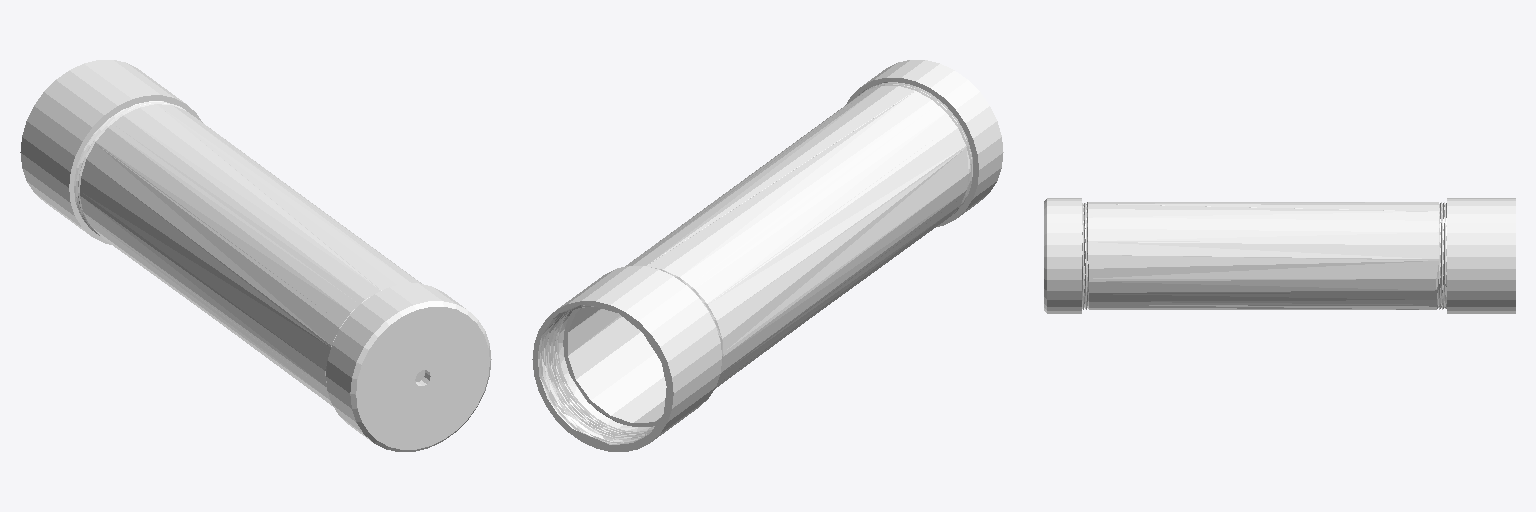
robot.urdf — main:
<?xml version="1.0" ?>
<robot name="main">
  <link name="world"/>
  <joint name="base_adapter_joint" type="fixed">
    <parent link="world"/>
    <child link="iiwa_base_adapter"/>
    <origin rpy="0 0 0" xyz="-0.2 0 0"/>
  </joint>
  <link name="iiwa_base_adapter">
    <inertial>
      <origin rpy="0 0 0" xyz="0 0 0"/>
      <mass value="1"/>
      <inertia ixx="1" ixy="0" ixz="0" iyy="1" iyz="0" izz="1"/>
    </inertial>
    <visual>
      <origin rpy="0 0 0" xyz="0 0 0"/>
      <geometry>
        <mesh filename="package://safemotions/description/meshes/misc/visual/base_adapter.dae"/>
      </geometry>
      <material name="white">
        <color rgba="1 1 1 1"/>
      </material>
    </visual>
    <collision>
      <origin rpy="0 0 0" xyz="0 0 0.01"/>
      <geometry>
        <cylinder length="0.02" radius="0.16"/>
      </geometry>
    </collision>
  </link>
  <joint name="iiwa_base_adapter_iiwa_joint" type="fixed">
    <origin rpy="0 0 0" xyz="0 0 0.02"/>
    <parent link="iiwa_base_adapter"/>
    <child link="iiwa_link_0"/>
  </joint>
  <link name="iiwa_link_0">
    <inertial>
      <origin rpy="0 0 0" xyz="-0.01 0 0.07"/>
      <mass value="5"/>
      <inertia ixx="0.05" ixy="0" ixz="0" iyy="0.06" iyz="0" izz="0.03"/>
    </inertial>
    <visual>
      <geometry>
        <mesh filename="package://safemotions/description/meshes/iiwa7/visual/base.dae"/>
      </geometry>
      <material name="white">
        <color rgba="1 1 1 1"/>
      </material>
    </visual>
    <collision>
      <geometry>
        <mesh filename="package://safemotions/description/meshes/iiwa7/collision/base.stl"/>
      </geometry>
    </collision>
  </link>
  <joint name="iiwa_joint_1" type="revolute">
    <parent link="iiwa_link_0"/>
    <child link="iiwa_link_1"/>
    <origin rpy="0 0 0" xyz="0 0 0.157"/>
    <axis xyz="0 0 1"/>
    <limit effort="176" lower="-2.9670597283903604" upper="2.9670597283903604" velocity="1.710422666954443"/>
    <dynamics damping="0.5"/>
  </joint>
  <link name="iiwa_link_1">
    <inertial>
      <origin rpy="0 0 0" xyz="0 -0.03 0.12"/>
      <mass value="3.4525"/>
      <inertia ixx="0.02183" ixy="0" ixz="0" iyy="0.02081" iyz="0.003883" izz="0.007697"/>
    </inertial>
    <visual>
      <geometry>
        <mesh filename="package://safemotions/description/meshes/iiwa7/visual/link1.dae"/>
      </geometry>
      <material name="white">
        <color rgba="1 1 1 1"/>
      </material>
    </visual>
    <collision>
      <geometry>
        <mesh filename="package://safemotions/description/meshes/iiwa7/collision/link1.stl"/>
      </geometry>
    </collision>
  </link>
  <joint name="iiwa_joint_2" type="revolute">
    <parent link="iiwa_link_1"/>
    <child link="iiwa_link_2"/>
    <origin rpy="0 0 0" xyz="0 0 0.183"/>
    <axis xyz="0 1 0"/>
    <limit effort="176" lower="-2.0943951023931953" upper="2.0943951023931953" velocity="1.710422666954443"/>
    <dynamics damping="0.5"/>
  </joint>
  <link name="iiwa_link_2">
    <inertial>
      <origin rpy="0 0 0" xyz="0.000 0.034417 0.0673286"/>
      <mass value="3.4821"/>
      <inertia ixx="0.02177" ixy="0" ixz="0.00" iyy="0.02075" iyz="0.003621" izz="0.00779"/>
    </inertial>
    <visual>
      <geometry>
        <mesh filename="package://safemotions/description/meshes/iiwa7/visual/link2.dae"/>
      </geometry>
      <material name="white">
        <color rgba="1 1 1 1"/>
      </material>
    </visual>
    <collision>
      <geometry>
        <mesh filename="package://safemotions/description/meshes/iiwa7/collision/link2.stl"/>
      </geometry>
    </collision>
  </link>
  <joint name="iiwa_joint_3" type="revolute">
    <parent link="iiwa_link_2"/>
    <child link="iiwa_link_3"/>
    <origin rpy="0 0 0" xyz="0 0 0.185"/>
    <axis xyz="0 0 1"/>
    <limit effort="110" lower="-2.9670597283903604" upper="2.9670597283903604" velocity="1.7453292519943295"/>
    <dynamics damping="0.5"/>
  </joint>
  <link name="iiwa_link_3">
    <inertial>
      <origin rpy="0 0 0" xyz="0 0.0295 0.1258"/>
      <mass value="4.05623"/>
      <inertia ixx="0.03204" ixy="0" ixz="0" iyy="0.03044" iyz="-0.006231" izz="0.009726"/>
    </inertial>
    <visual>
      <geometry>
        <mesh filename="package://safemotions/description/meshes/iiwa7/visual/link3.dae"/>
      </geometry>
      <material name="white">
        <color rgba="1 1 1 1"/>
      </material>
    </visual>
    <collision>
      <geometry>
        <mesh filename="package://safemotions/description/meshes/iiwa7/collision/link3.stl"/>
      </geometry>
    </collision>
  </link>
  <joint name="iiwa_joint_4" type="revolute">
    <parent link="iiwa_link_3"/>
    <child link="iiwa_link_4"/>
    <origin rpy="0 0 0" xyz="0 0 0.215"/>
    <axis xyz="0 -1 0"/>
    <limit effort="110" lower="-2.0943951023931953" upper="2.0943951023931953" velocity="2.2689280275926285"/>
    <dynamics damping="0.5"/>
  </joint>
  <link name="iiwa_link_4">
    <inertial>
      <origin rpy="0 0 0" xyz="0 -0.034 0.067"/>
      <mass value="3.4822"/>
      <inertia ixx="0.021775" ixy="0" ixz="0" iyy="0.02075" iyz="-0.003621" izz="0.007783"/>
    </inertial>
    <visual>
      <geometry>
        <mesh filename="package://safemotions/description/meshes/iiwa7/visual/link4.dae"/>
      </geometry>
      <material name="white">
        <color rgba="1 1 1 1"/>
      </material>
    </visual>
    <collision>
      <geometry>
        <mesh filename="package://safemotions/description/meshes/iiwa7/collision/link4.stl"/>
      </geometry>
    </collision>
  </link>
  <joint name="iiwa_joint_5" type="revolute">
    <parent link="iiwa_link_4"/>
    <child link="iiwa_link_5"/>
    <origin rpy="0 0 0" xyz="0 0 0.4"/>
    <axis xyz="0 0 1"/>
    <limit effort="110" lower="-2.9670597283903604" upper="2.9670597283903604" velocity="2.443460952792061"/>
    <dynamics damping="0.5"/>
  </joint>
  <link name="iiwa_link_5">
    <inertial>
      <origin rpy="0 0 0" xyz="0.0001 -0.02263 -0.1365"/>
      <mass value="2.1633"/>
      <inertia ixx="0.01287" ixy="0" ixz="0" iyy="0.01112" iyz="0.003943" izz="0.0057128"/>
    </inertial>
    <visual>
      <geometry>
        <mesh filename="package://safemotions/description/meshes/iiwa7/visual/link5.dae"/>
      </geometry>
      <material name="white">
        <color rgba="1 1 1 1"/>
      </material>
    </visual>
    <collision>
      <geometry>
        <mesh filename="package://safemotions/description/meshes/iiwa7/collision/link5.stl"/>
      </geometry>
    </collision>
  </link>
  <joint name="iiwa_joint_6" type="revolute">
    <parent link="iiwa_link_5"/>
    <child link="iiwa_link_6"/>
    <origin rpy="0 0 0" xyz="0 0 0"/>
    <axis xyz="0 1 0"/>
    <limit effort="40" lower="-2.0943951023931953" upper="2.0943951023931953" velocity="3.141592653589793"/>
    <dynamics damping="0.5"/>
  </joint>
  <link name="iiwa_link_6">
    <inertial>
      <origin rpy="0 0 0" xyz="0 0.00047 0.002124"/>
      <mass value="2.3466"/>
      <inertia ixx="0.006522" ixy="0" ixz="0" iyy="0.006270" iyz="0.00032280" izz="0.0045345"/>
    </inertial>
    <visual>
      <geometry>
        <mesh filename="package://safemotions/description/meshes/iiwa7/visual/link6.dae"/>
      </geometry>
      <material name="white">
        <color rgba="1 1 1 1"/>
      </material>
    </visual>
    <collision>
      <geometry>
        <mesh filename="package://safemotions/description/meshes/iiwa7/collision/link6.stl"/>
      </geometry>
    </collision>
  </link>
  <joint name="iiwa_joint_7" type="revolute">
    <parent link="iiwa_link_6"/>
    <child link="iiwa_link_7"/>
    <origin rpy="0 0 0" xyz="0 0 0"/>
    <axis xyz="0 0 1"/>
    <limit effort="40" lower="-3.0543261909900763" upper="3.0543261909900763" velocity="3.141592653589793"/>
    <dynamics damping="0.5"/>
  </joint>
  <link name="iiwa_link_7">
    <inertial>
      <origin rpy="0 0 0" xyz="0 0 0.1"/>
      <mass value="3.129"/>
      <inertia ixx="0.0022711" ixy="0.0000221" ixz="0" iyy="0.0022807" iyz="0" izz="0.002872"/>
    </inertial>
    <visual>
      <geometry>
        <mesh filename="package://safemotions/description/meshes/iiwa7/visual/link7.dae"/>
      </geometry>
      <material name="white">
        <color rgba="1 1 1 1"/>
      </material>
    </visual>
    <collision>
      <geometry>
        <mesh filename="package://safemotions/description/meshes/iiwa7/collision/link7.stl"/>
      </geometry>
    </collision>
  </link>
  <joint name="ball_machine_joint" type="fixed">
    <parent link="iiwa_link_7"/>
    <child link="ball_machine"/>
    <origin rpy="1.570796 0 0" xyz="0 0.175 0.1645"/>
  </joint>
  <link name="ball_machine">
    <inertial>
      <mass value="1.0"/>
      <inertia ixx="0.0317" ixy="0.0" ixz="0.0" iyy="0.021" iyz="0.0" izz="0.0527"/>
    </inertial>
    <visual>
      <geometry>
        <mesh filename="package://safemotions/description/meshes/misc/visual/ball_machine.obj" scale="2.2 2.2 2.2"/>
      </geometry>
      <material name="white">
        <color rgba="1 1 1 1"/>
      </material>
    </visual>
    <collision>
      <geometry>
        <mesh filename="package://safemotions/description/meshes/misc/collision/ball_machine.obj" scale="2.2 2.2 2.2"/>
      </geometry>
    </collision>
  </link>
  <joint name="basketball_joint" type="fixed">
    <parent link="ball_machine"/>
    <child link="basketball"/>
    <origin rpy="0 0 1.5707" xyz="0.0009 0.001 0.25"/>
  </joint>
  <link name="basketball">
    <inertial>
      <origin rpy="0 0 0" xyz="0 0 0"/>
       <mass value=".0"/>
       <inertia ixx="0" ixy="0" ixz="0" iyy="0" iyz="0" izz="0"/>
    </inertial>
    <visual>
      <origin rpy="-0.55 0 0" xyz="-0.00633 -0.02976 0.0242"/>
      <geometry>
		    <mesh filename="package://safemotions/description/meshes/obstacles/visual/basketball_red.obj" scale="0.001076 0.001076 0.001076"/>
      </geometry>
      <material name="white">
        <color rgba="1 1 1 1"/>
      </material>
    </visual>
  </link>
</robot>

--- Render facts (derived) ---
The picture shows the robot from 3 angles, left to right: view 1: azimuth 30°, elevation 25°; view 2: azimuth 150°, elevation 25°; view 3: azimuth 270°, elevation 25°; orthographic projection.
Model main with 12 links and 11 joints (7 revolute, 4 fixed), rooted at world, posed every joint at zero.
Links seen in each view (by area): view 1: ball_machine; view 2: ball_machine; view 3: ball_machine.
Boxes of the visible links, box(x1,y1,x2,y2) form: ball_machine: box(20, 60, 491, 451); ball_machine: box(532, 60, 1003, 451); ball_machine: box(1044, 198, 1515, 313).
Bounding box of the posed robot: 0.0847 × 0.3449 × 0.0842 m (x, y, z).
2 mesh visuals loaded from 11 distinct referenced files (2 OBJ); not drawn: 9 (reference not matched to a file when rendering).